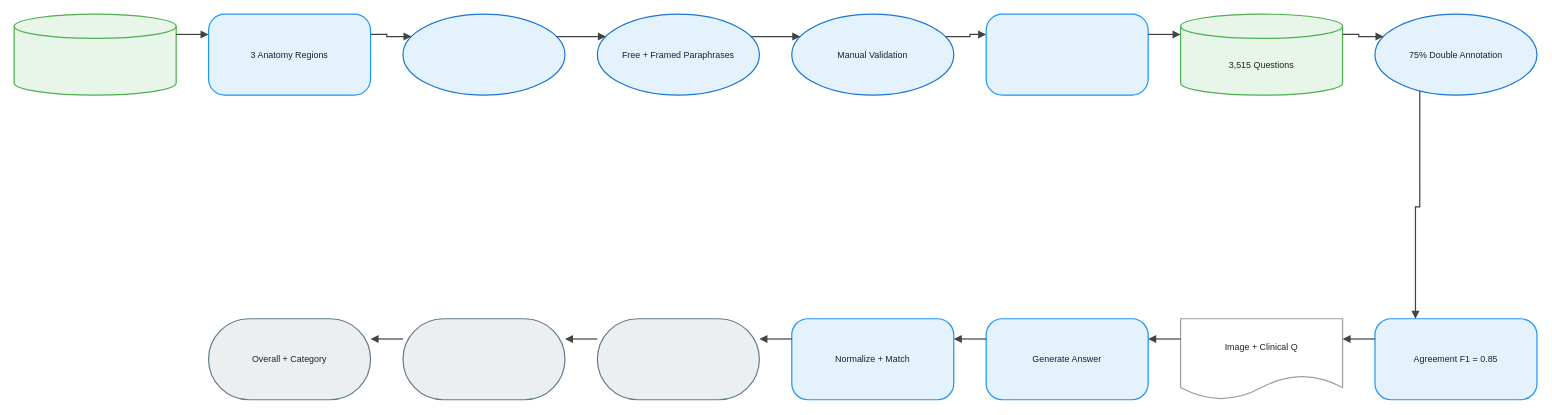
The diagram is 1552 pixels wide and 415 high, and some of its shapes have lost their labels. Each missing label, with the centre of its shape:
315 MedPix Images: (x=94, y=54)
Clinician Natural Q/A: (x=483, y=54)
Closed Accuracy: (x=678, y=359)
Open Accuracy: (x=483, y=359)
Type Categorization: (x=1066, y=54)
